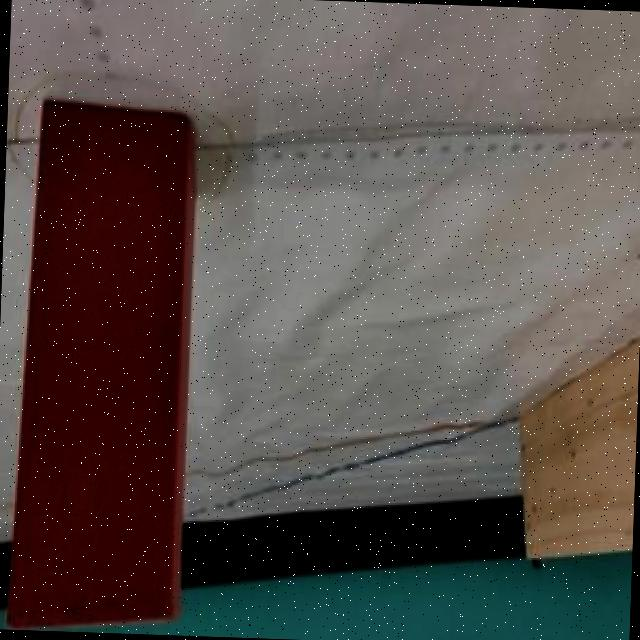redbox: (2, 97, 194, 636)
